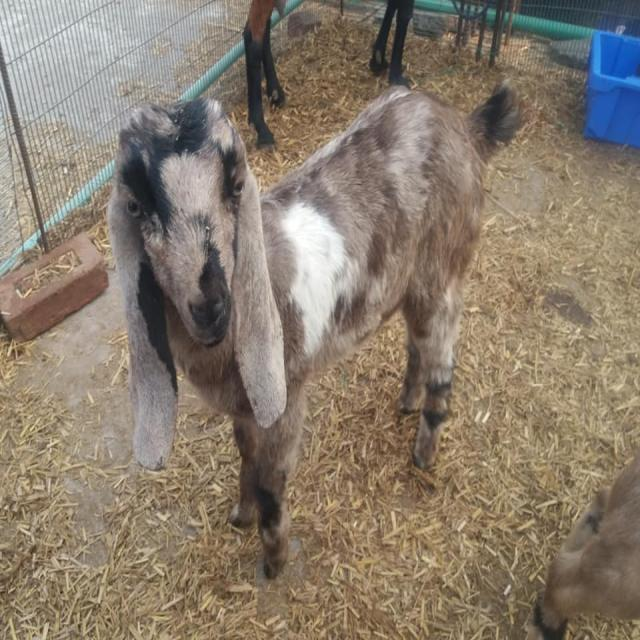Goat: (105, 77, 523, 579), (527, 448, 639, 638)
